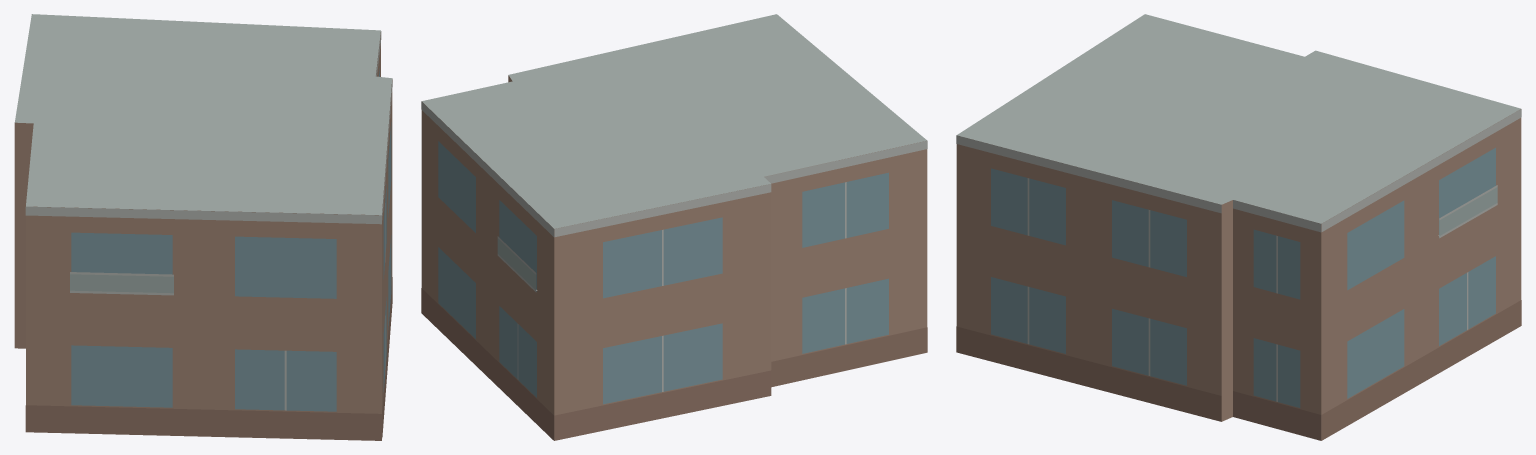
Rendered from survey-upis-32812462.glb.
3 views of the same model, side by side, from view 1: azimuth 30°, elevation 25°; view 2: azimuth 150°, elevation 25°; view 3: azimuth 270°, elevation 25° (orthographic). The views are drawn at different scales.
Visible parts, largest first — view 1: survey-upis-32812462.tmp; view 2: survey-upis-32812462.tmp; view 3: survey-upis-32812462.tmp.
Part boxes in pixels (x1,y1,x2,y2): survey-upis-32812462.tmp: [14, 14, 392, 440]; survey-upis-32812462.tmp: [421, 14, 927, 440]; survey-upis-32812462.tmp: [956, 14, 1521, 440].
Size of the model in its own units: 12.65 by 6.1 by 14.4.
